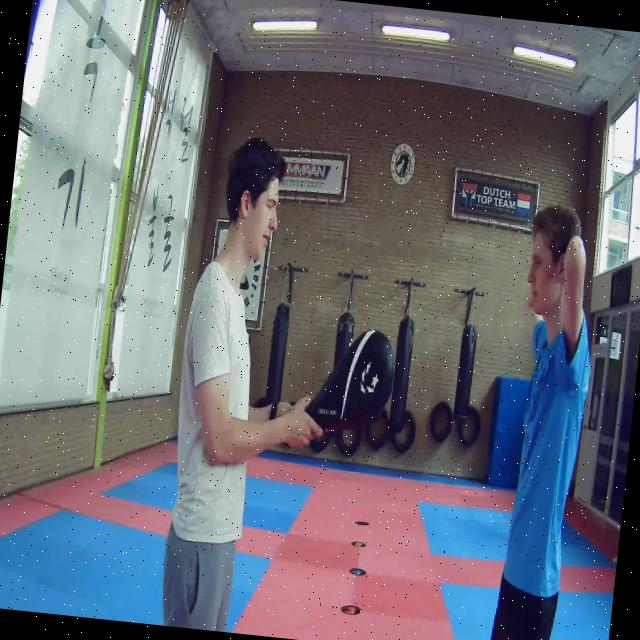paddle: (304, 329, 394, 431)
